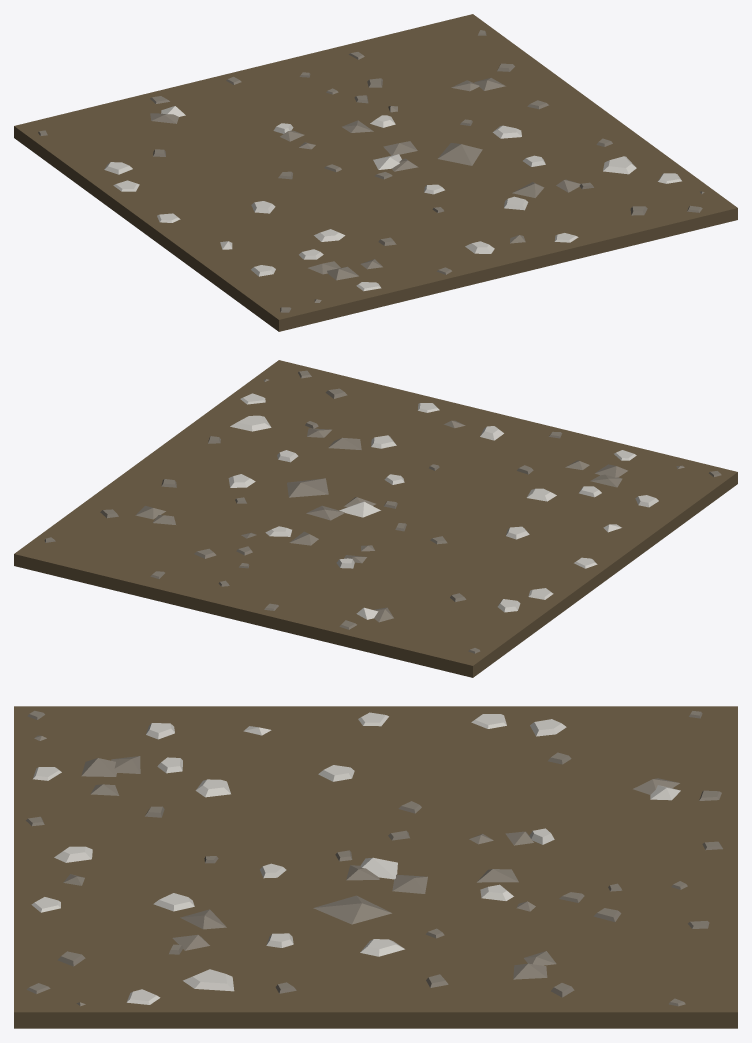
The model's file is mine-spoil-gravel-tile-40ae10.glb.
The picture shows the model from 3 angles, top to bottom: view 1: azimuth 30°, elevation 25°; view 2: azimuth 150°, elevation 25°; view 3: azimuth 270°, elevation 25°; orthographic projection. The views are drawn at different scales.
Visible parts, largest first — view 1: mine-spoil-gravel-tile-mesh; view 2: mine-spoil-gravel-tile-mesh; view 3: mine-spoil-gravel-tile-mesh.
Part boxes in pixels (x1,y1,x2,y2): mine-spoil-gravel-tile-mesh: (14,14,737,331); mine-spoil-gravel-tile-mesh: (14,360,737,677); mine-spoil-gravel-tile-mesh: (14,706,737,1028).
Bounding box in the file's own units: 2 × 0.0808 × 2.
